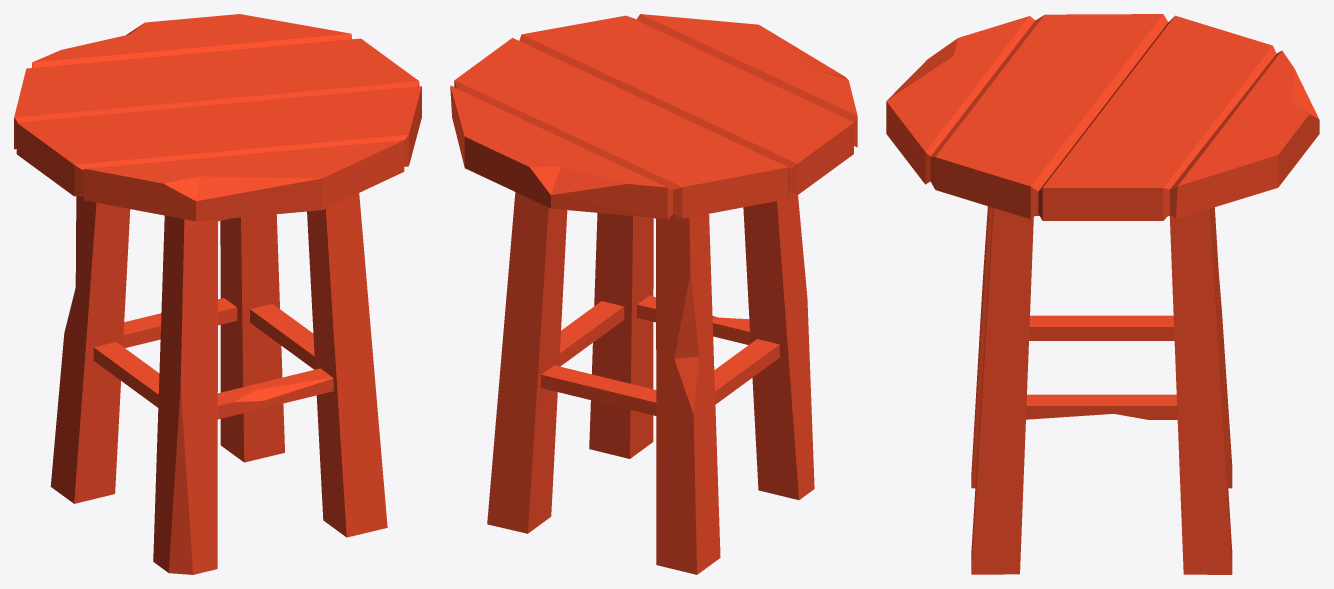
The model's file is SM_Stool_A_City.fbx.
The picture shows the model from 3 angles, left to right: view 1: azimuth 30°, elevation 25°; view 2: azimuth 150°, elevation 25°; view 3: azimuth 270°, elevation 25°; orthographic projection. The views are drawn at different scales.
Parts seen in each view (by area): view 1: SM_Stool_A_City; view 2: SM_Stool_A_City; view 3: SM_Stool_A_City.
Part boxes in pixels (left/top/right/bottom): SM_Stool_A_City: left=14, top=14, right=421, bottom=574; SM_Stool_A_City: left=450, top=14, right=857, bottom=574; SM_Stool_A_City: left=886, top=14, right=1319, bottom=574.
Size of the model in its own units: 0.4671 by 0.5261 by 0.4911.
